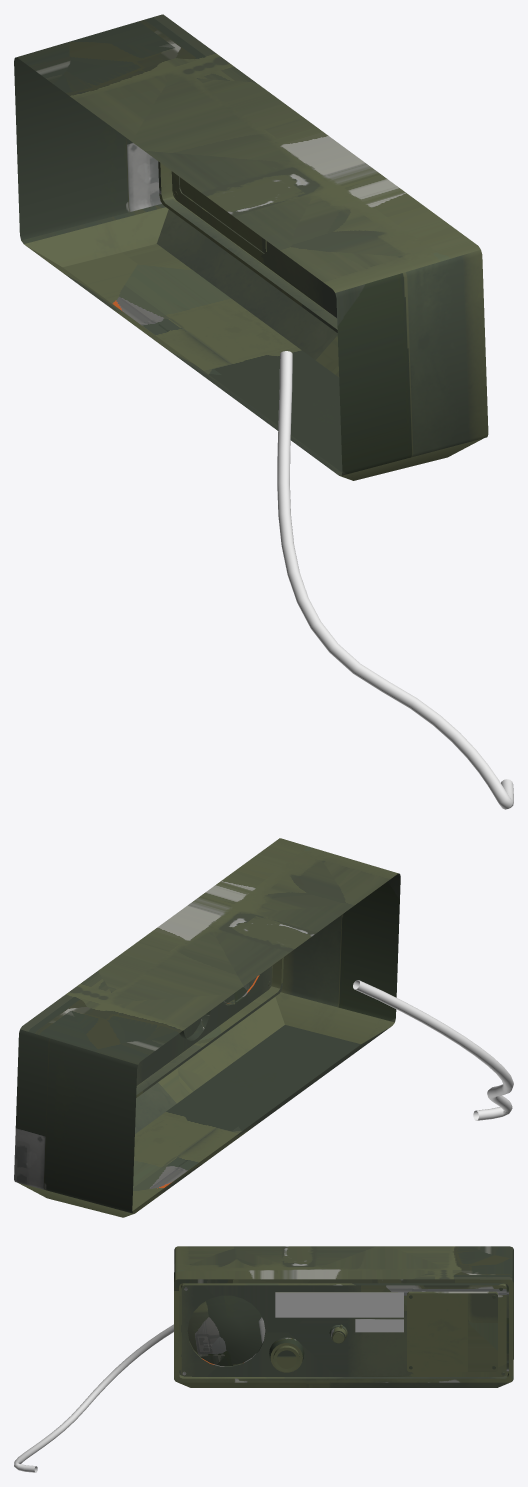
File: RadioUnit_01.fbx
3 views of the same model, one above another, from view 1: azimuth 30°, elevation 25°; view 2: azimuth 150°, elevation 25°; view 3: azimuth 270°, elevation 25° (orthographic). The views are drawn at different scales.
Visible parts, largest first — view 1: radio_base_v1, radioCord_v1; view 2: radio_base_v1, radioCord_v1; view 3: radio_base_v1, blankPlate_v1, radioCord_v1, radioVol_v1.
Boxes of the visible parts, left/top/right/bottom form: radio_base_v1: left=14, top=14, right=488, bottom=480; radioCord_v1: left=277, top=351, right=513, bottom=809; radio_base_v1: left=14, top=838, right=400, bottom=1217; radioCord_v1: left=353, top=980, right=513, bottom=1120; radio_base_v1: left=174, top=1246, right=513, bottom=1387; blankPlate_v1: left=407, top=1291, right=497, bottom=1371; radioCord_v1: left=14, top=1324, right=173, bottom=1472; radioVol_v1: left=269, top=1337, right=304, bottom=1372.
Size of the model in its own units: 1.87 by 2.9 by 5.91.
